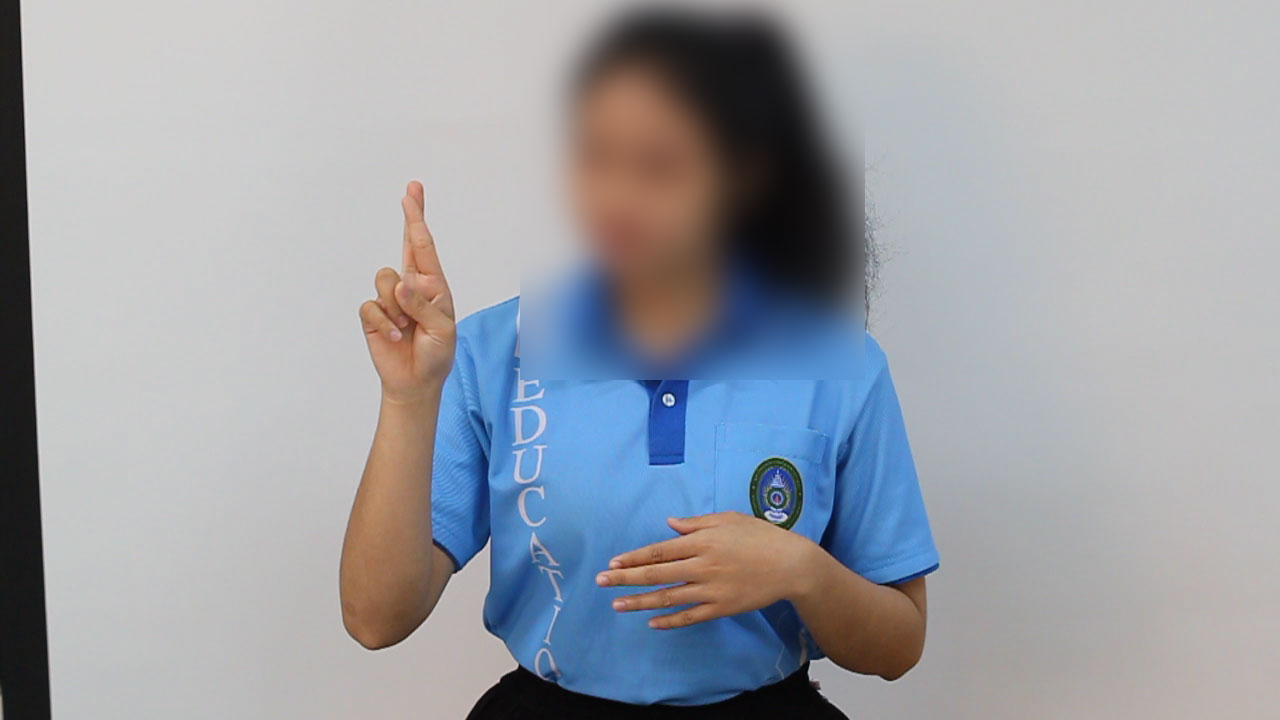rao: (343, 170, 478, 407)
